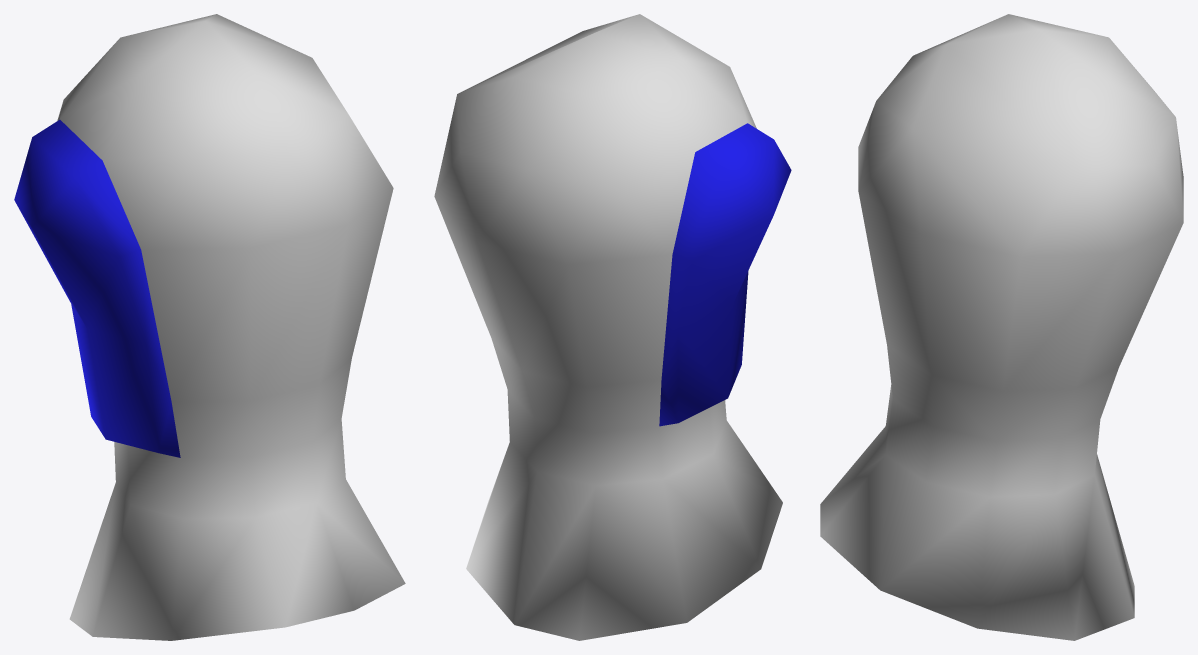
The model's file is rthigh.obj.
3 renders of one model, left to right at view 1: azimuth 30°, elevation 25°; view 2: azimuth 150°, elevation 25°; view 3: azimuth 270°, elevation 25°, orthographic. The views are drawn at different scales.
Parts seen in each view (by area): view 1: thigh.000_Sphere.003; view 2: thigh.000_Sphere.003; view 3: thigh.000_Sphere.003.
Boxes of the visible parts, x1,y1,x2,y2 form: thigh.000_Sphere.003: [14, 14, 405, 640]; thigh.000_Sphere.003: [434, 14, 791, 640]; thigh.000_Sphere.003: [820, 14, 1183, 640].
Bounding box in the file's own units: 0.1061 × 0.1799 × 0.1036.
